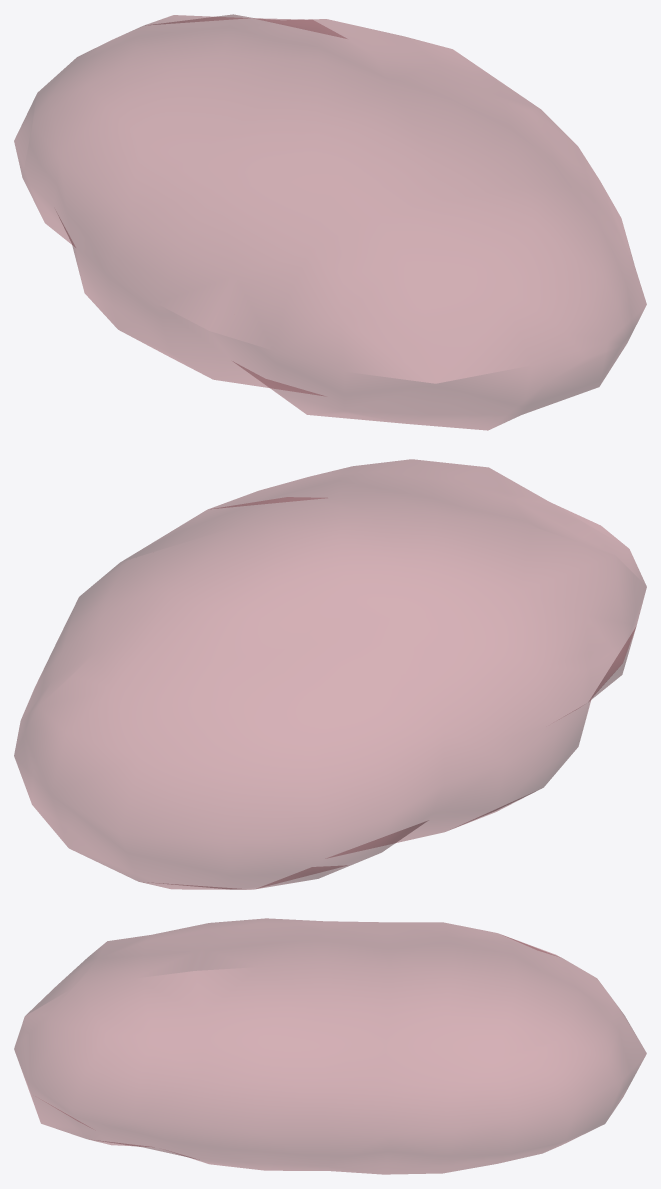
The model's file is microscopic-cells-red-blood-cell_v3.glb.
3 renders of one model, top to bottom at view 1: azimuth 30°, elevation 25°; view 2: azimuth 150°, elevation 25°; view 3: azimuth 270°, elevation 25°, orthographic. The views are drawn at different scales.
Parts seen in each view (by area): view 1: Red Blood Cell_v3; view 2: Red Blood Cell_v3; view 3: Red Blood Cell_v3.
Boxes of the visible parts, left/top/right/bottom form: Red Blood Cell_v3: left=14, top=14, right=646, bottom=430; Red Blood Cell_v3: left=14, top=459, right=646, bottom=889; Red Blood Cell_v3: left=14, top=918, right=646, bottom=1174.
Bounding box in the file's own units: 0.5082 × 0.2829 × 0.8.
